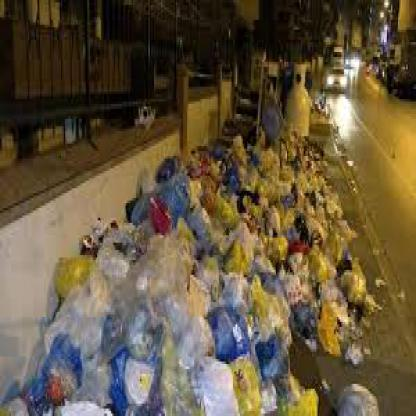Garbage: (142, 176, 288, 414), (62, 260, 216, 414), (221, 210, 354, 360), (203, 142, 316, 242)
